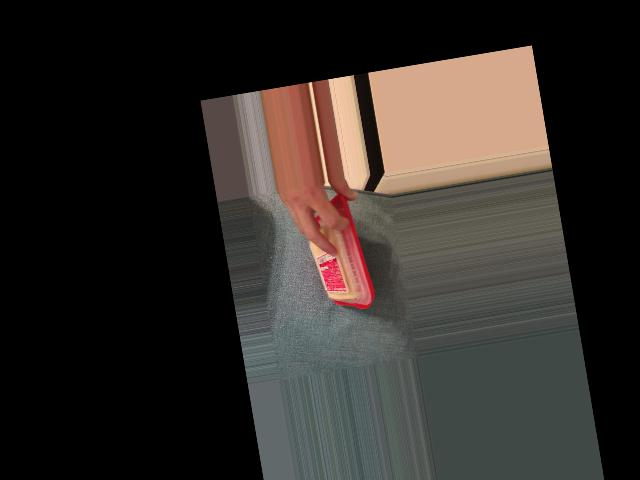cheese: (292, 189, 378, 318)
